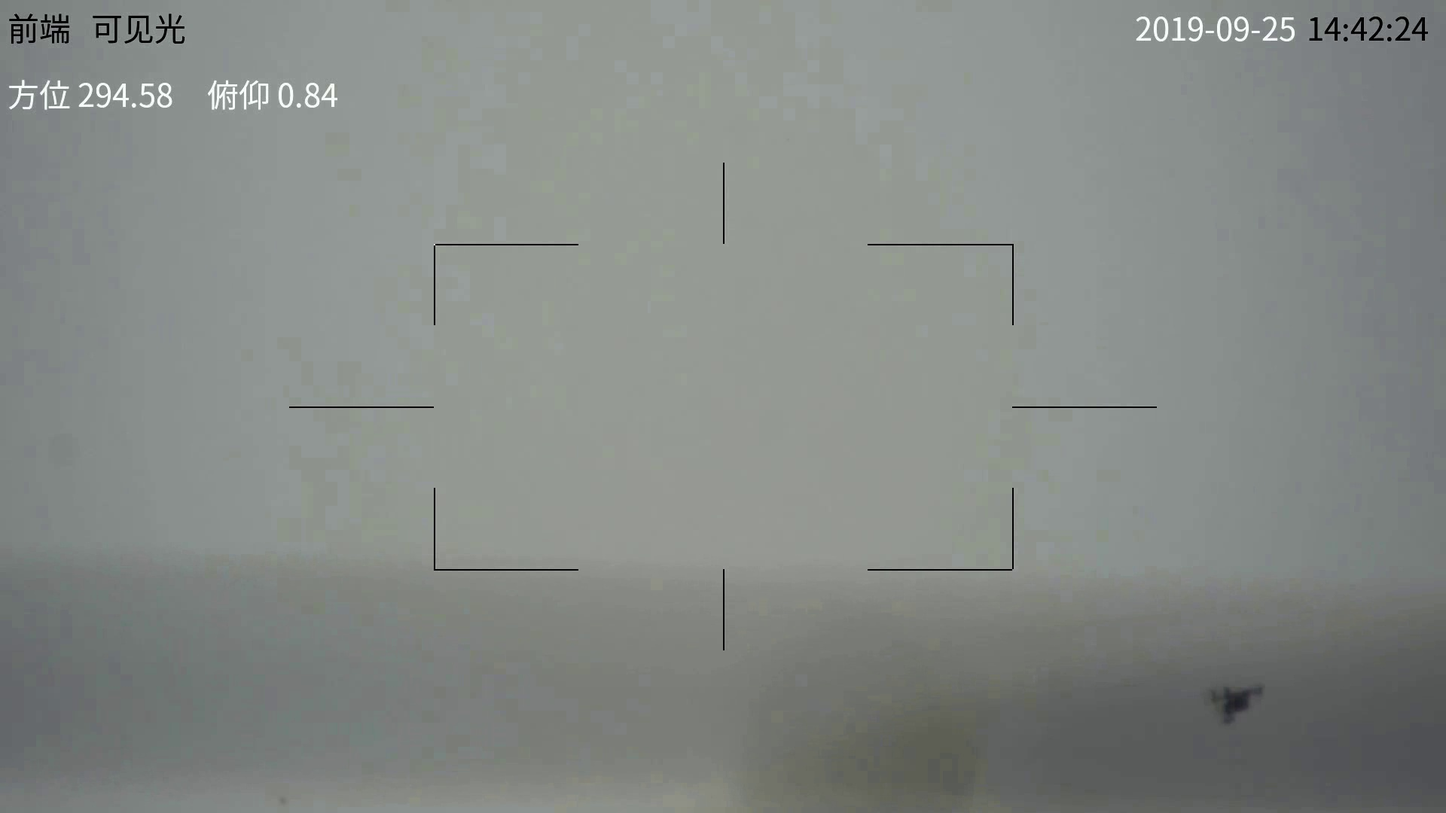drone: (1206, 680, 1270, 725)
